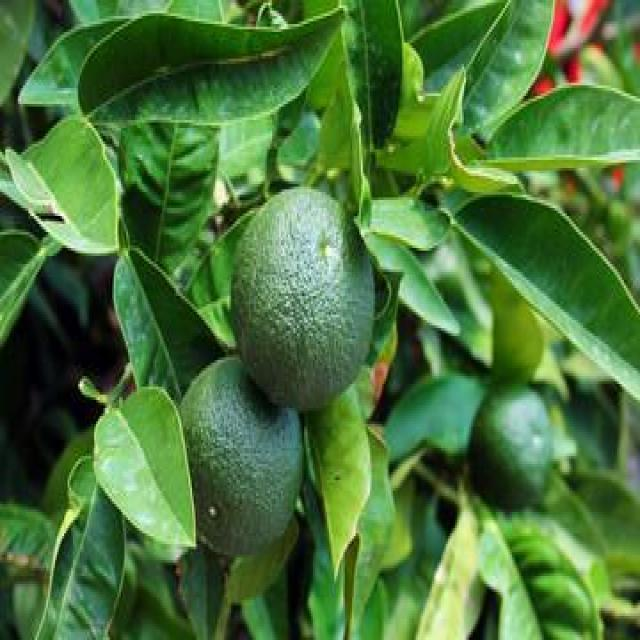Jeruk Belum Matang: (229, 184, 379, 408), (174, 354, 304, 550), (468, 383, 554, 518)
